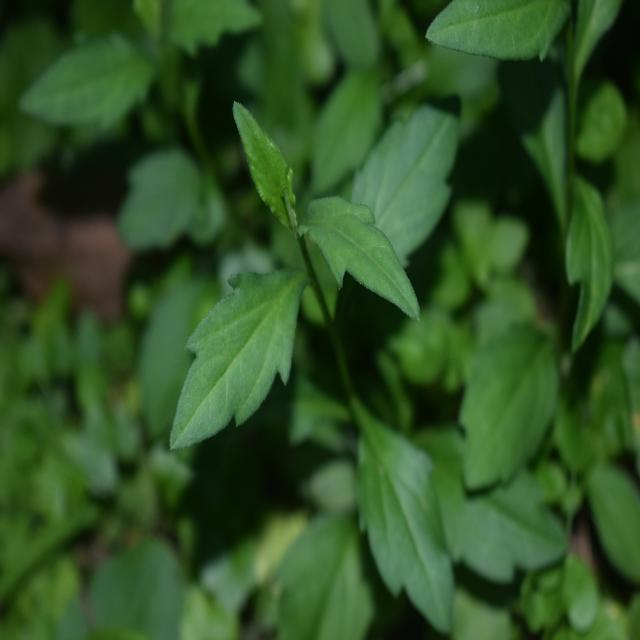Indian aster: (163, 85, 475, 592)
